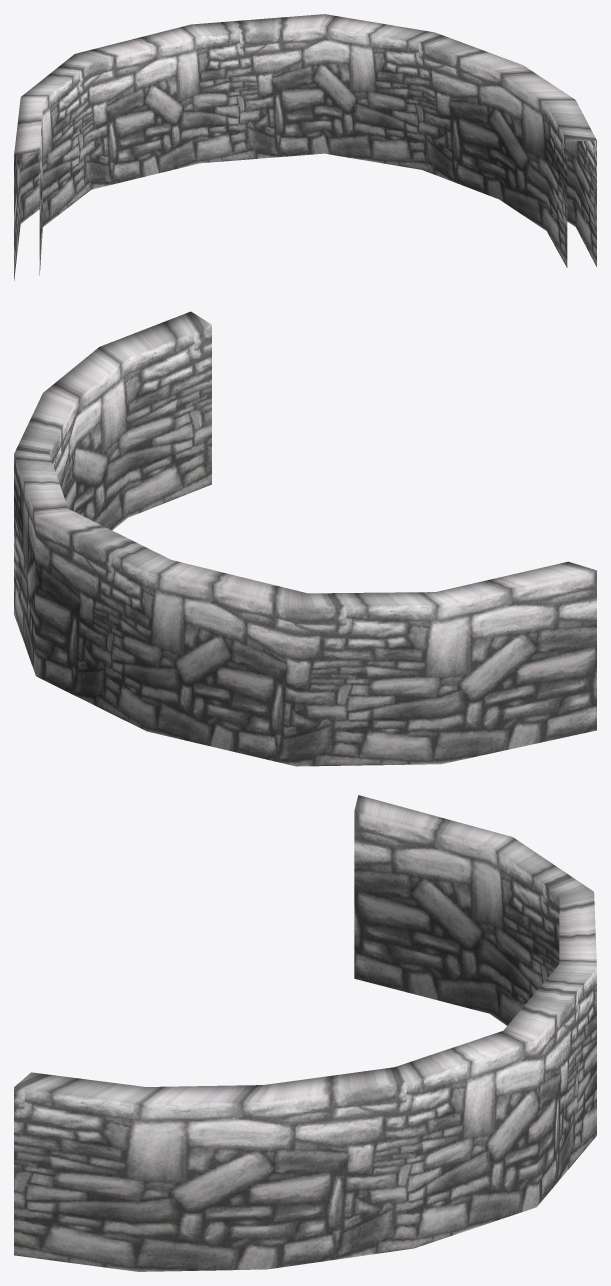
Rendered from HTOWN01_BAGENDTERRACE3.fbx.
3 renders of one model, top to bottom at view 1: azimuth 30°, elevation 25°; view 2: azimuth 150°, elevation 25°; view 3: azimuth 270°, elevation 25°, orthographic. The views are drawn at different scales.
Parts seen in each view (by area): view 1: HTOWN01_BAGENDTERRACE3; view 2: HTOWN01_BAGENDTERRACE3; view 3: HTOWN01_BAGENDTERRACE3.
Part boxes in pixels (box(x1,y1,x2,y2)): HTOWN01_BAGENDTERRACE3: box(14, 14, 596, 280); HTOWN01_BAGENDTERRACE3: box(14, 311, 596, 766); HTOWN01_BAGENDTERRACE3: box(14, 795, 596, 1271).
Size of the model in its own units: 44543 by 11308 by 35534.
Materials: 1 (1 with a texture image).
